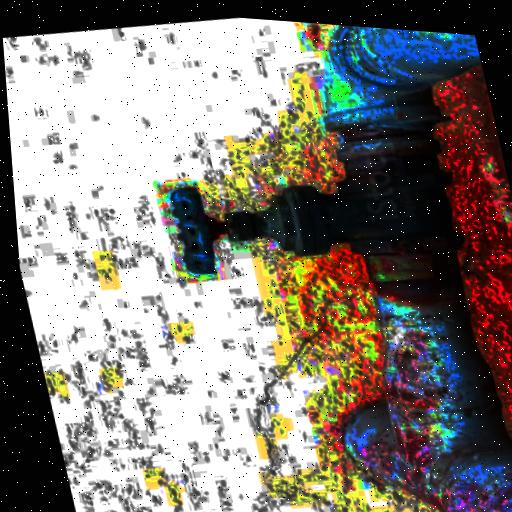corrosion: (358, 228, 474, 319)
